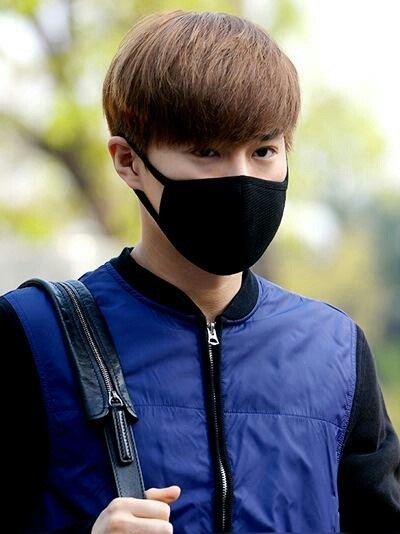face_mask: (147, 54, 290, 275)
